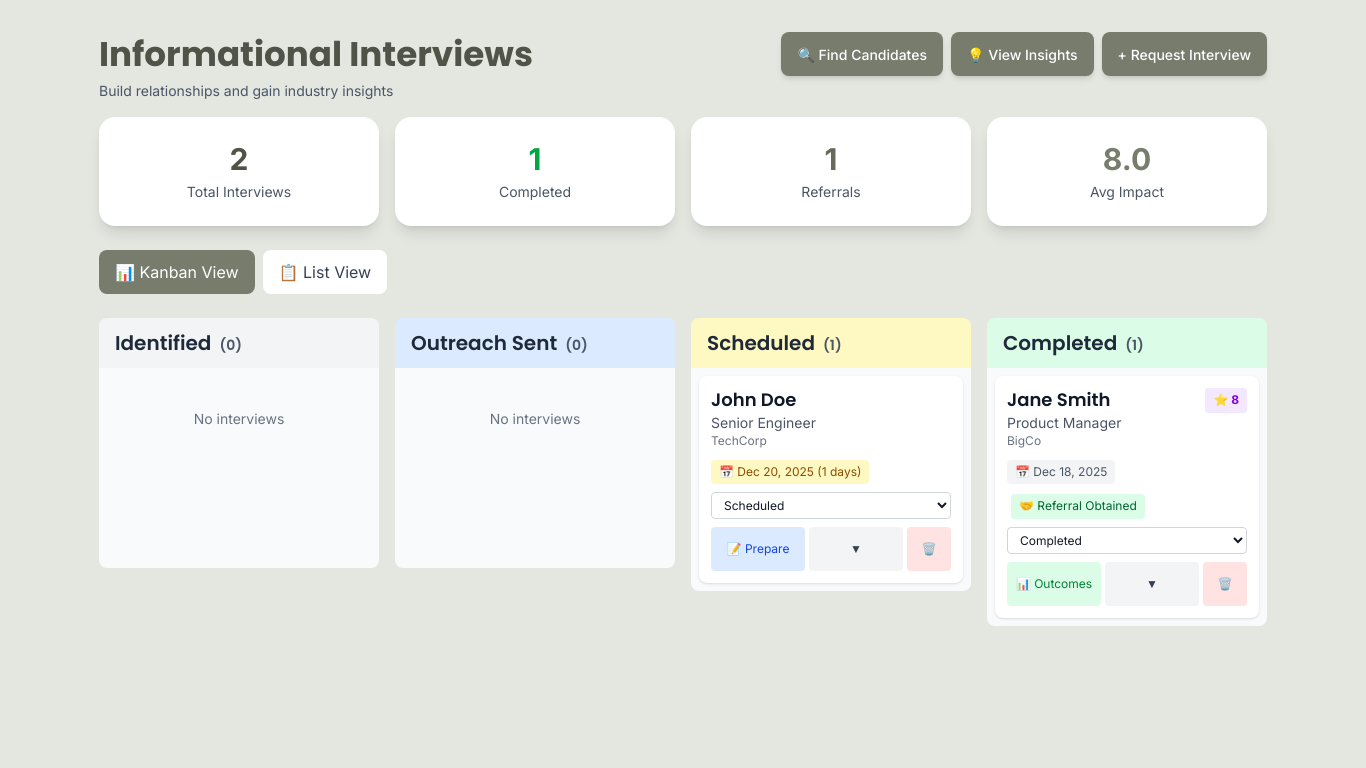
Test: InformationalInterviewsPage › opens insights panel when button is clicked
Step 1. Click the button "💡 View Insights" → (1022, 54), box [951,32,1094,76]
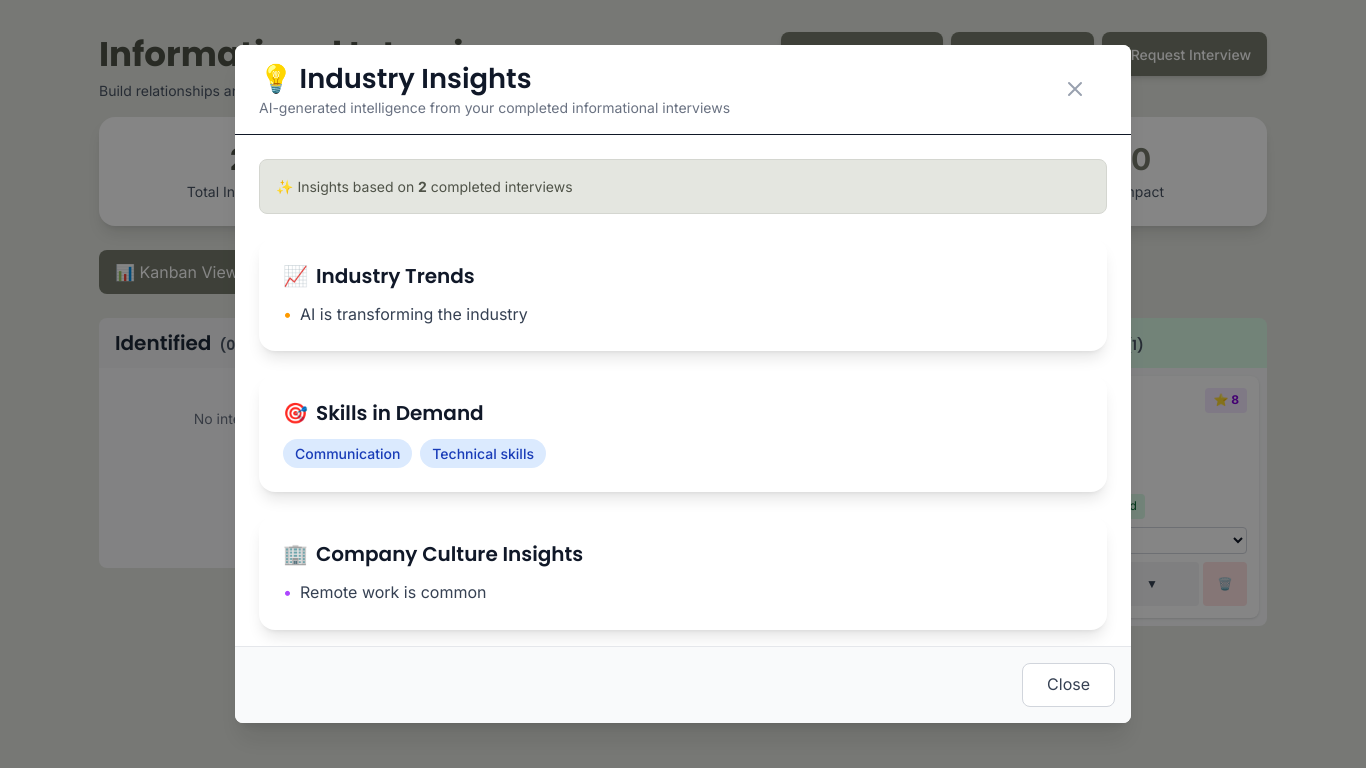
Expected: the heading "💡 Industry Insights" is shown, [259,59,532,98]
